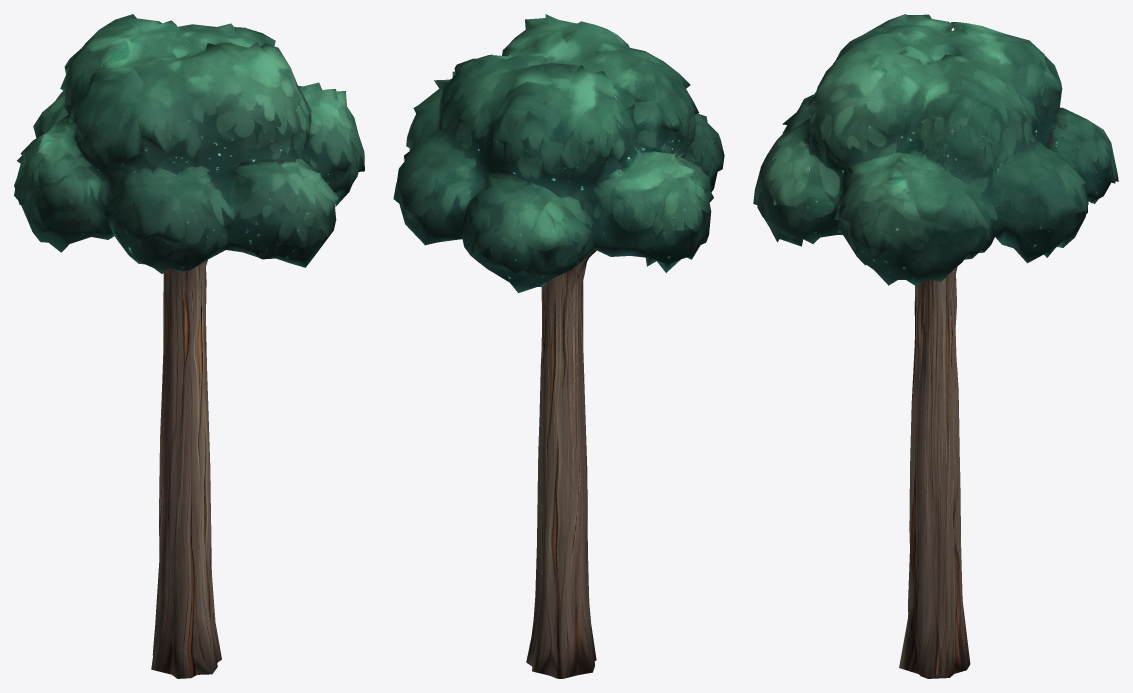
3 views of the same model, side by side, from view 1: azimuth 30°, elevation 25°; view 2: azimuth 150°, elevation 25°; view 3: azimuth 270°, elevation 25° (orthographic).
Visible parts, largest first — view 1: Mesh_0; view 2: Mesh_0; view 3: Mesh_0.
Part boxes in pixels (x1,y1,x2,y2): Mesh_0: (14,14,364,678); Mesh_0: (393,14,724,678); Mesh_0: (753,14,1118,678).
Bounding box in the file's own units: 0.9809 × 1.91 × 1.
1 material, 1 textured.
